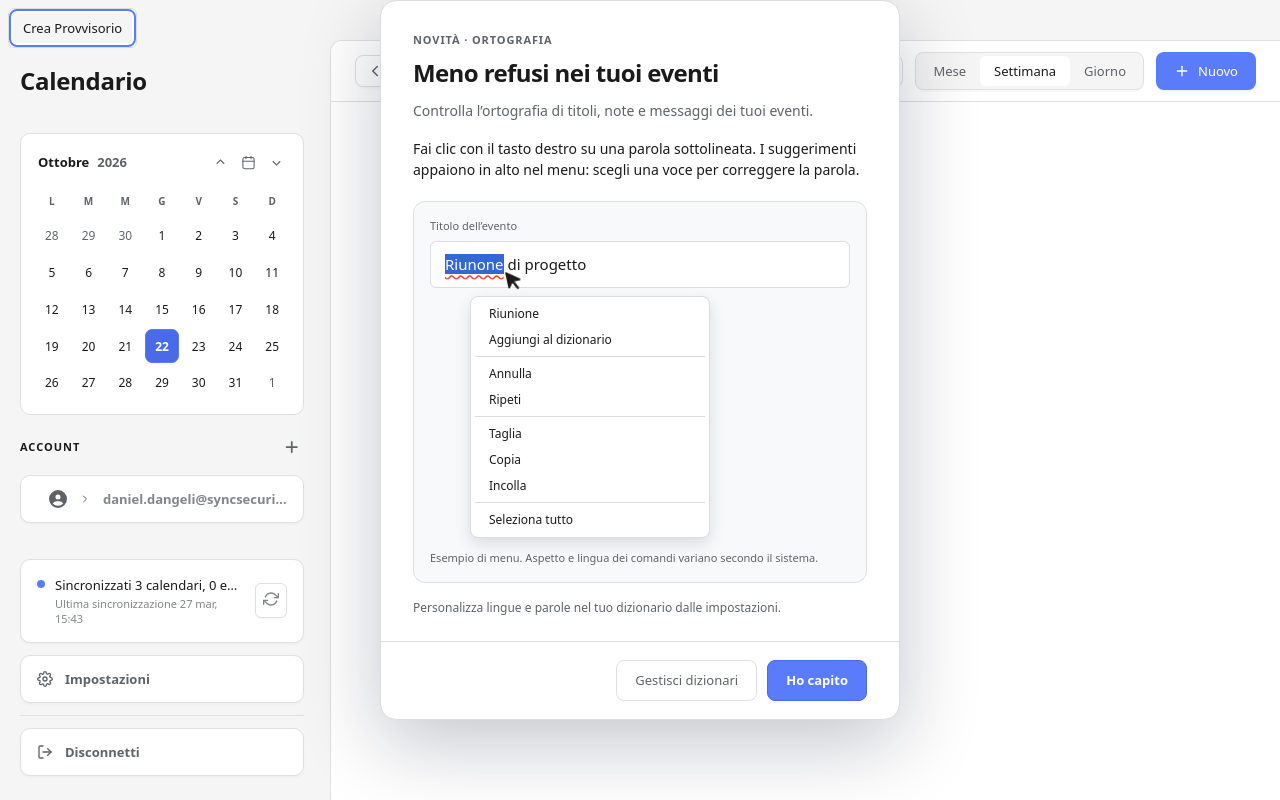
Test case: app startup › creates a placeholder with title '  Caffè ☕ – 会議  ' as 'Caffè ☕ – 会議' in it
The width and height of the screenshot is (1280, 800).
Click the menu item "Crea Provvisorio". click: (73, 28)
box: [13,13,132,43]
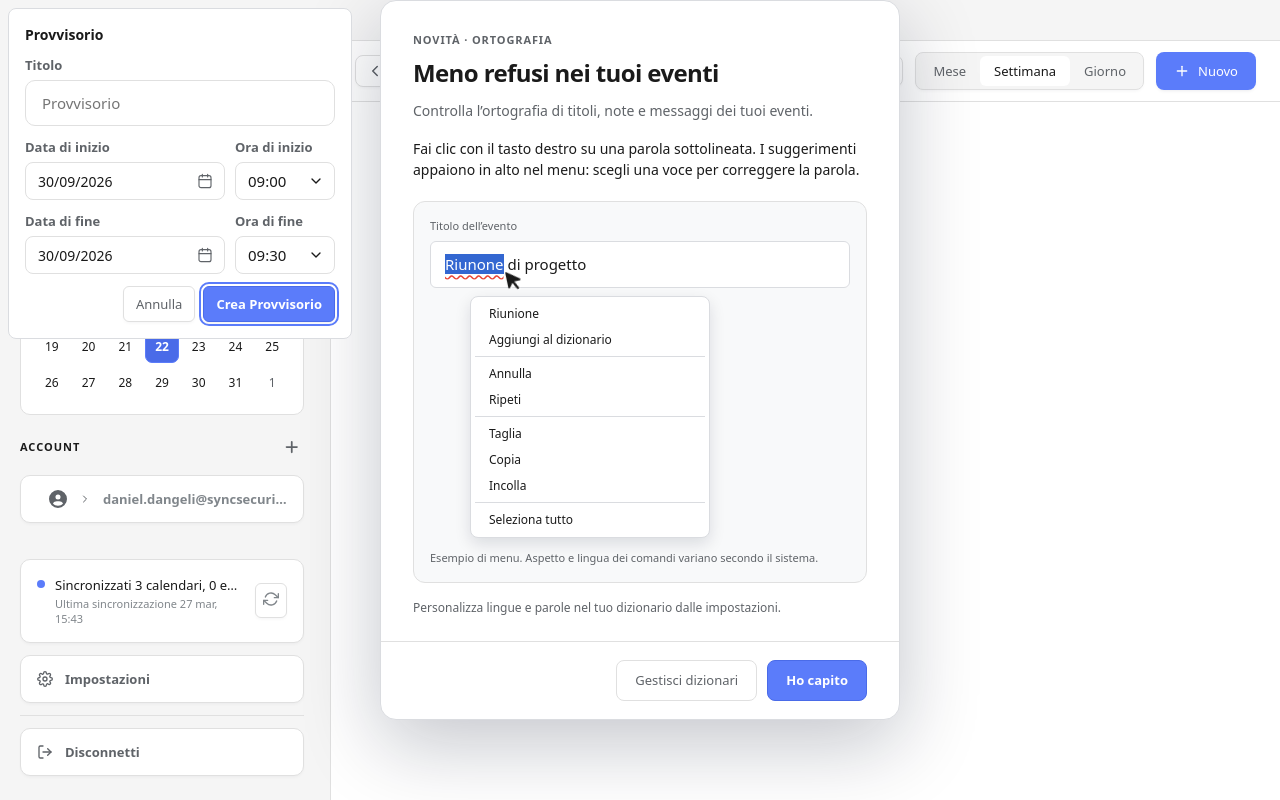
Type "  Caffè ☕ – 会議  " into the field labelled "Titolo". click: (180, 103)
box: [25,80,335,126]
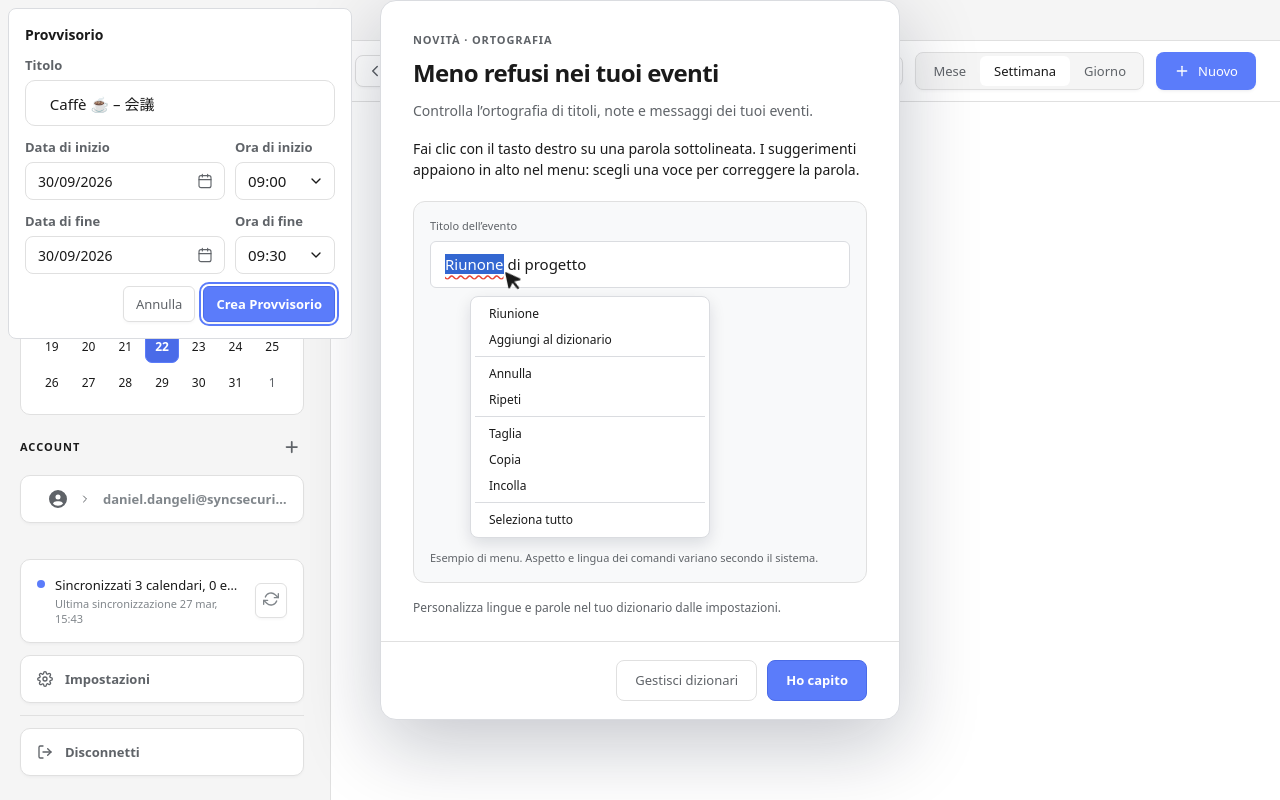
Click the button "Crea Provvisorio". click: (269, 304)
box: [203,286,335,322]
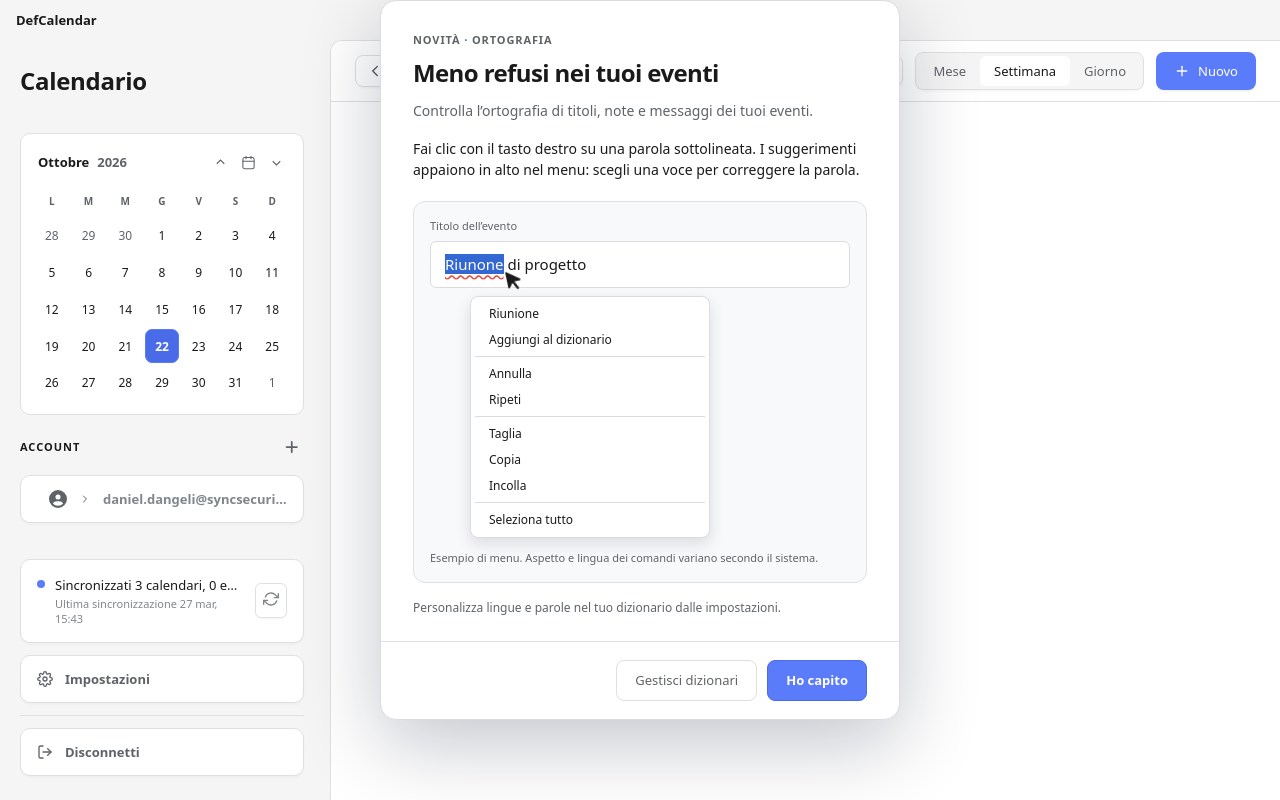
expect the heading "Provvisorio" is gone: met
